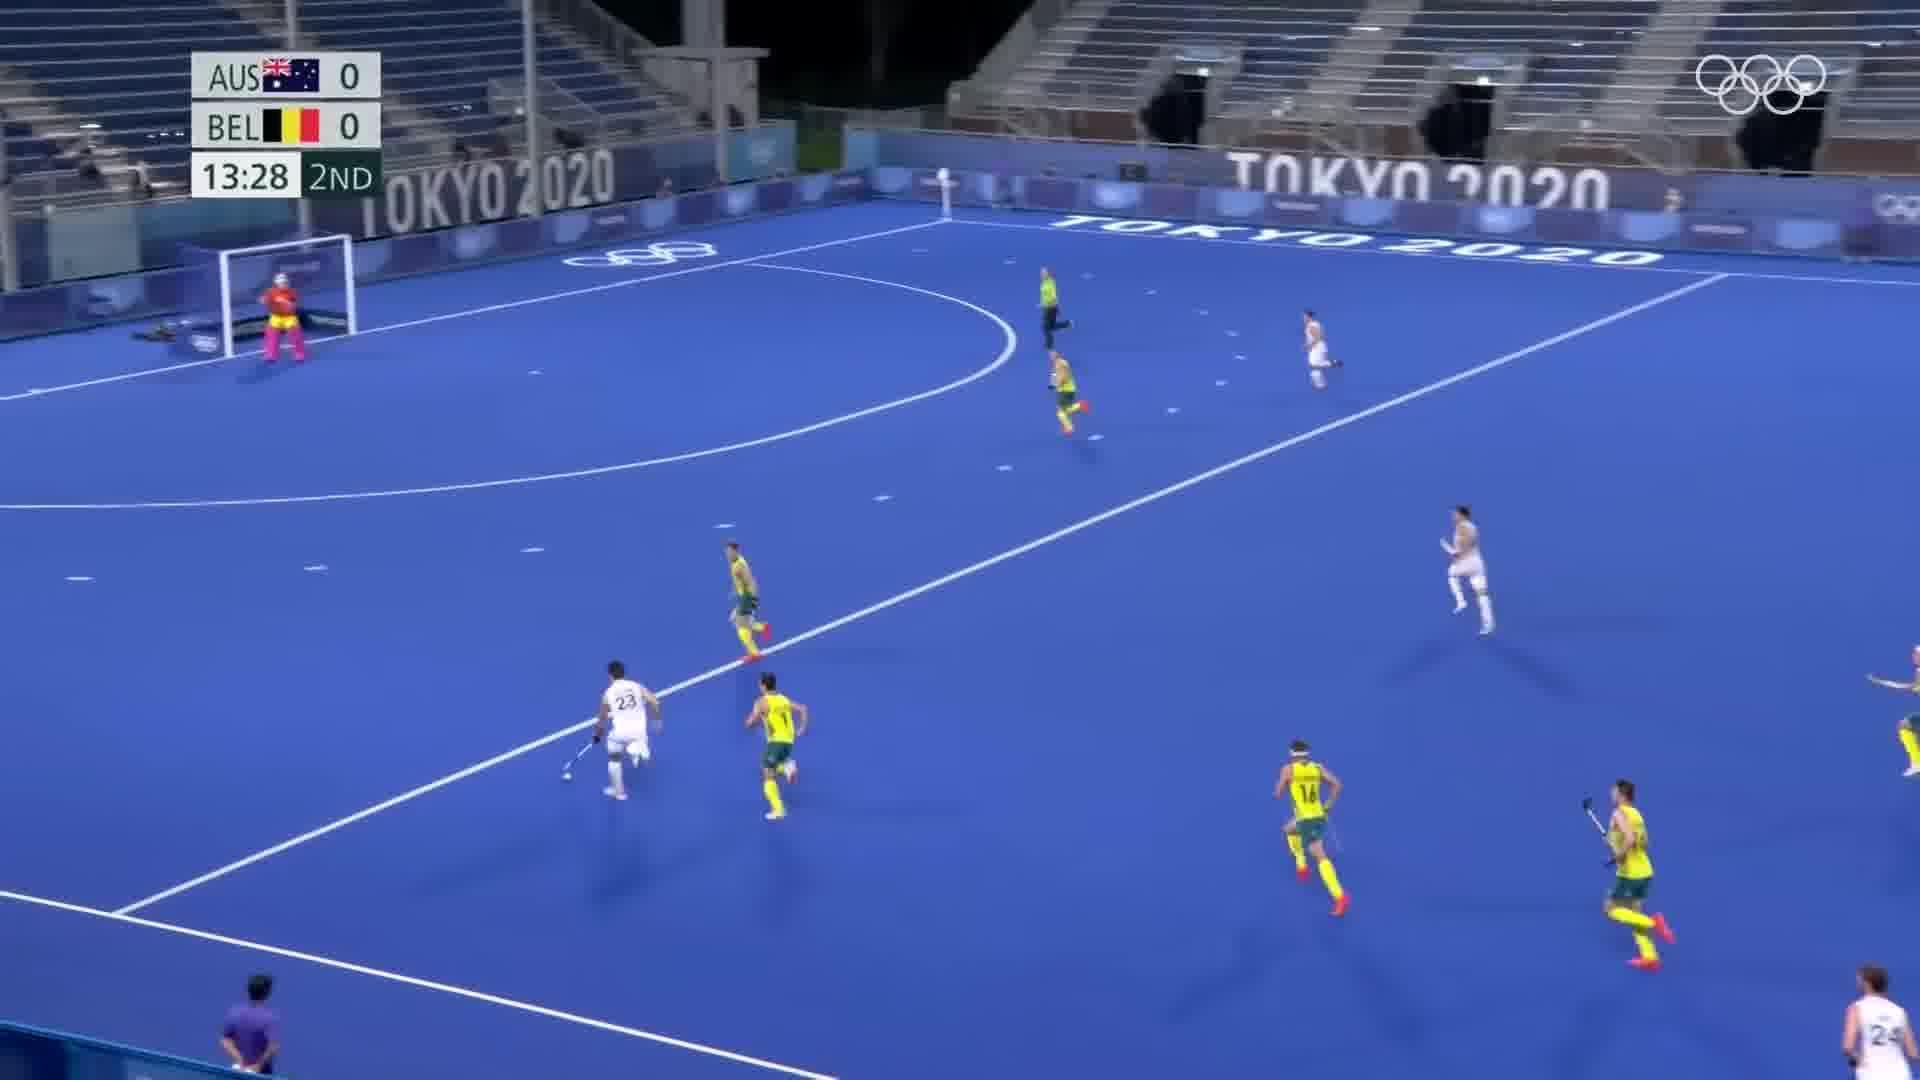ball: (553, 766, 579, 785)
